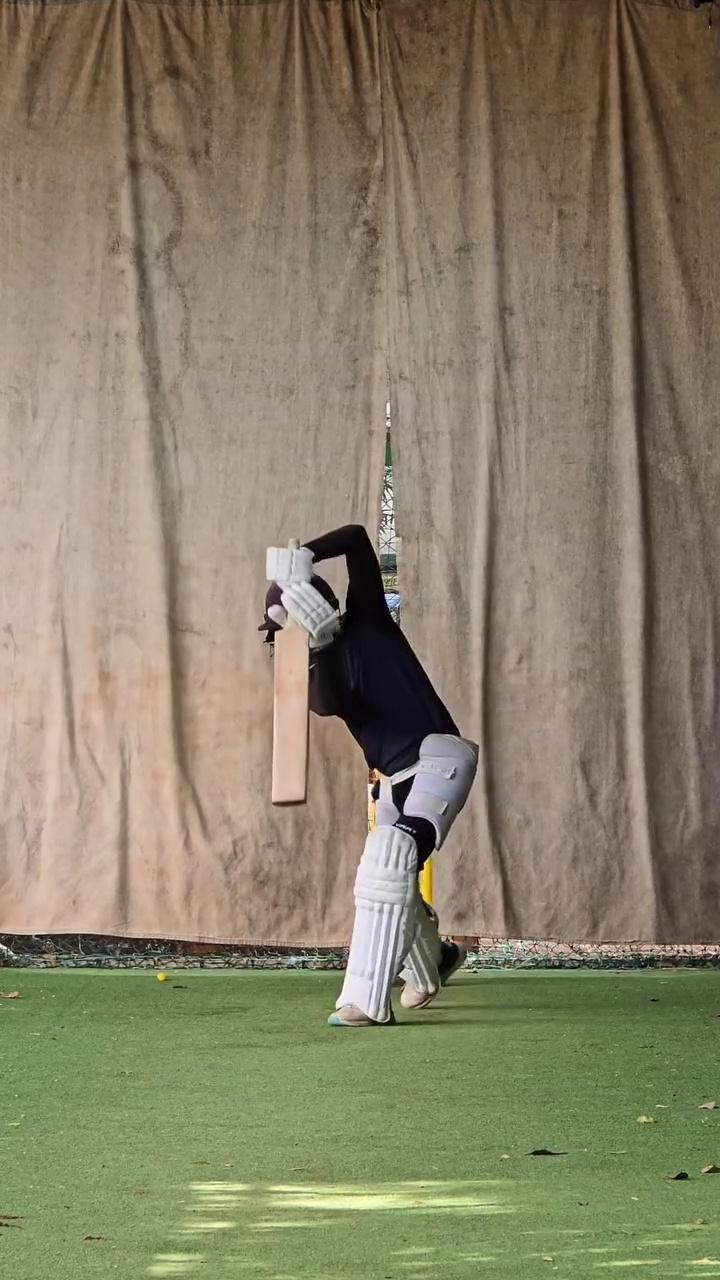bat: (271, 631, 310, 809)
